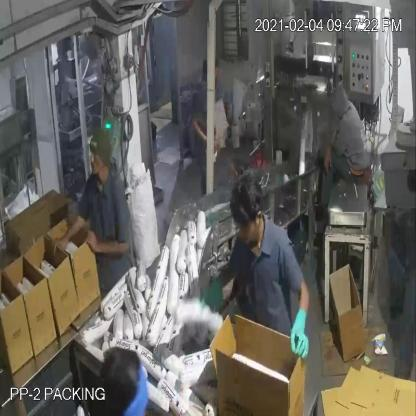glove: (285, 300, 311, 364), (195, 276, 226, 314)
no_glove: (84, 226, 134, 263), (50, 212, 87, 257), (192, 114, 216, 150), (321, 141, 337, 181)
